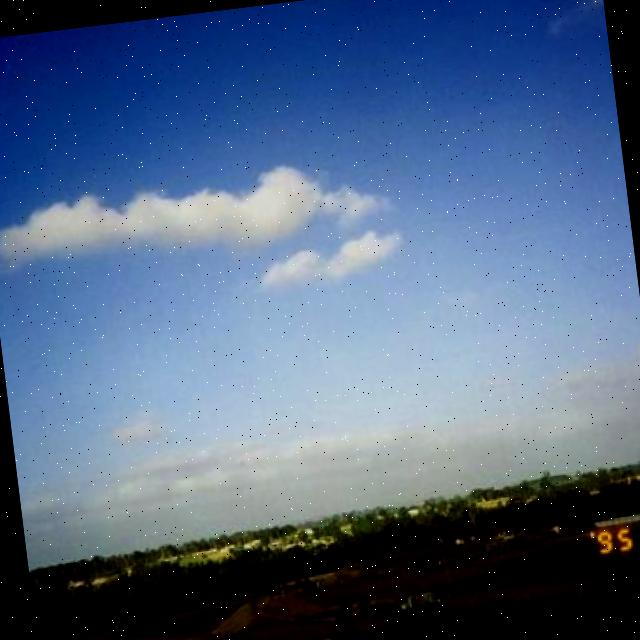St: (1, 133, 431, 346)
